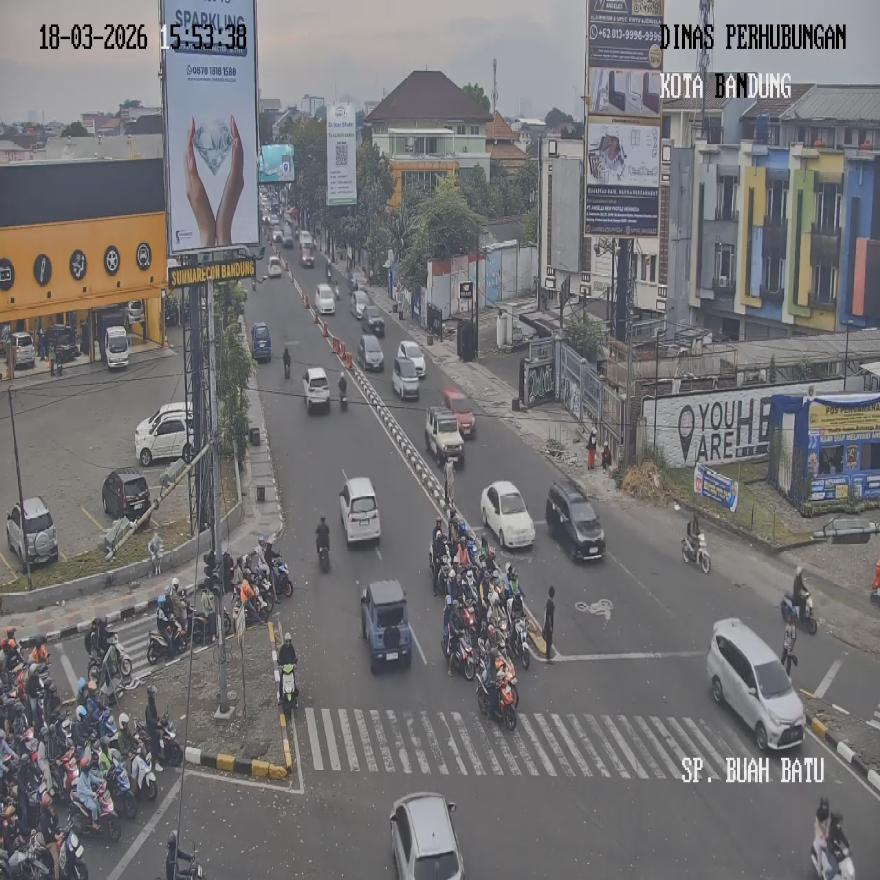Mobil: (705, 617, 805, 754), (389, 792, 464, 879), (545, 477, 606, 561), (360, 579, 412, 674), (134, 402, 195, 466), (6, 496, 58, 570), (481, 479, 534, 551), (338, 474, 380, 545), (425, 404, 464, 465)
Motor: (68, 777, 120, 841), (476, 666, 516, 730), (88, 638, 132, 692), (103, 755, 138, 820), (146, 616, 186, 665), (810, 836, 854, 880), (188, 600, 231, 644), (129, 741, 158, 800), (446, 626, 477, 680), (780, 589, 817, 633), (59, 825, 88, 879), (236, 578, 269, 625), (157, 712, 182, 766), (680, 532, 710, 573), (508, 617, 530, 669), (278, 662, 298, 718), (268, 556, 292, 598), (316, 517, 330, 571), (147, 532, 163, 578), (430, 552, 445, 596), (338, 376, 347, 410)
